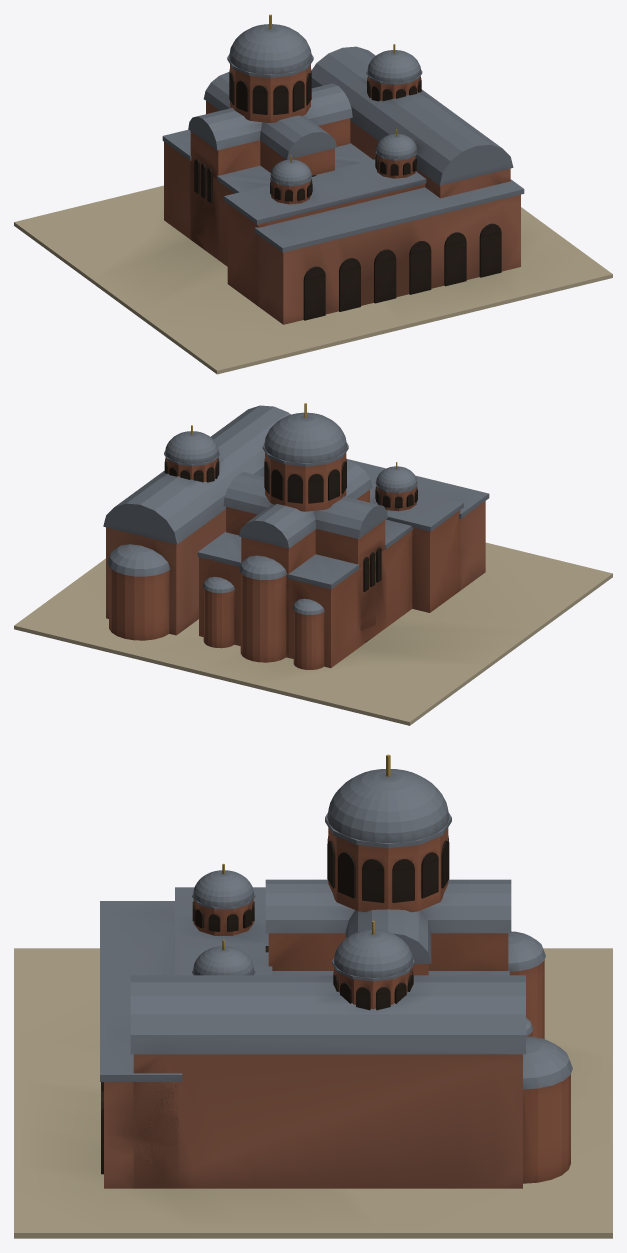
Rendered from chora-1453.glb.
The picture shows the model from 3 angles, top to bottom: view 1: azimuth 30°, elevation 25°; view 2: azimuth 150°, elevation 25°; view 3: azimuth 270°, elevation 25°; orthographic projection. The views are drawn at different scales.
Parts seen in each view (by area): view 1: p2_Metochites, p0_church, p1_naos; view 2: p1_naos, p0_church, p2_Metochites; view 3: p2_Metochites, p0_church, p1_naos.
Part boxes in pixels (x1,y1,x2,y2): p2_Metochites: [254, 44, 524, 324]; p0_church: [14, 185, 612, 374]; p1_naos: [162, 14, 426, 305]; p1_naos: [197, 403, 463, 669]; p0_church: [14, 542, 612, 725]; p2_Metochites: [103, 405, 489, 640]; p2_Metochites: [100, 863, 572, 1188]; p0_church: [14, 948, 612, 1238]; p1_naos: [175, 754, 545, 1038].
Bounding box in the file's own units: 45 × 24.17 × 40.
